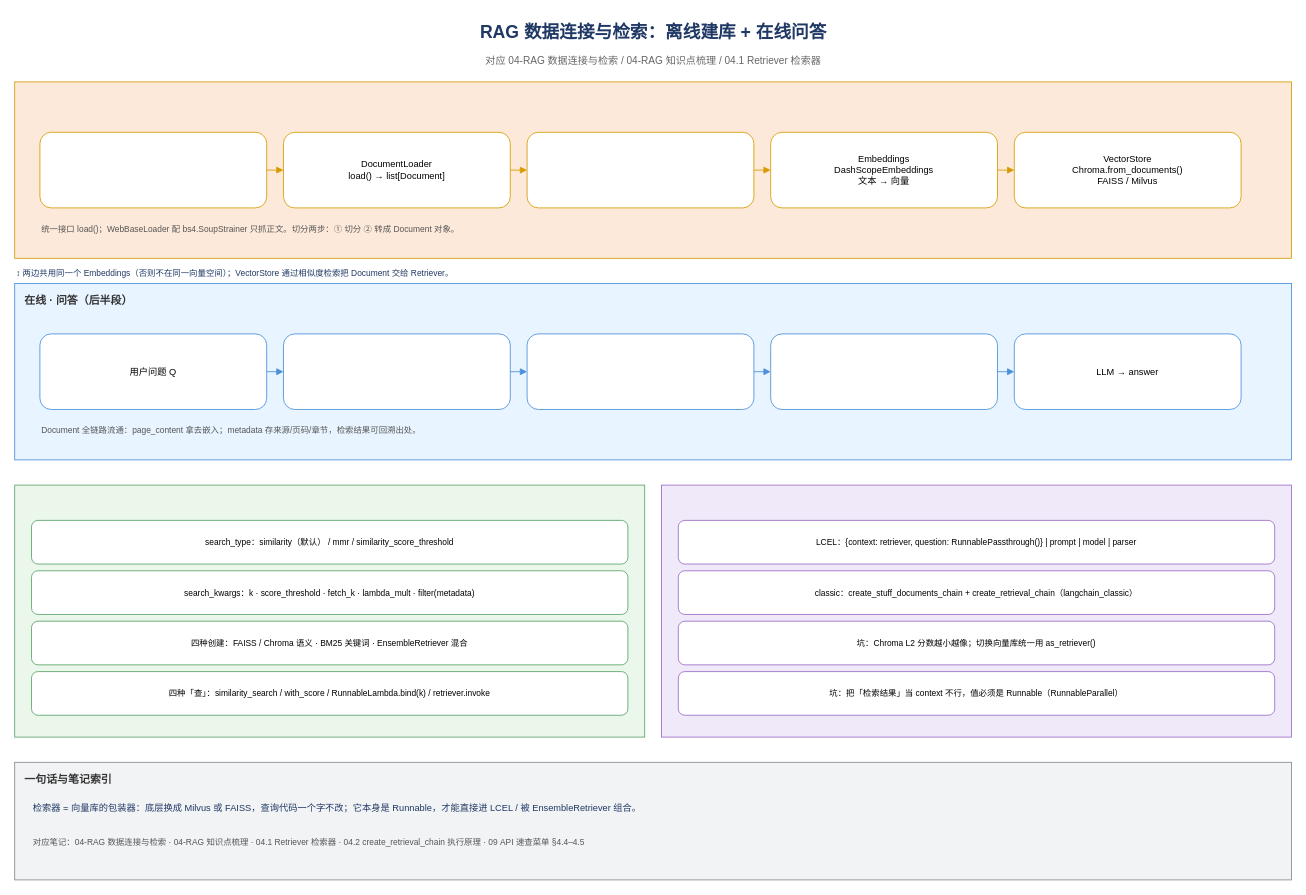
The diagram is 1306 pixels wide and 895 high, and some of its shapes have lost their labels. The shapes that lost their labels are listed below. From the top down, each one's box as (x1, y1, x2, y2) in pixels, then its label:
(39, 131, 267, 208): 数据源 txt / pdf / html / md / db / 网页
(526, 131, 754, 208): TextSplitter RecursiveCharacterTextSplitter chunk_size / chunk_overlap
(14, 81, 1292, 258): 离线 · 建库（前半段）
(283, 333, 510, 410): 同一 Embeddings 问题 → 向量
(526, 333, 754, 410): Retriever as_retriever() → list[Document]
(770, 333, 998, 410): Prompt question + context 不知道就说不知道
(14, 484, 645, 737): 检索器参数与四种创建方式
(661, 484, 1292, 737): 两条链与踩坑清单
